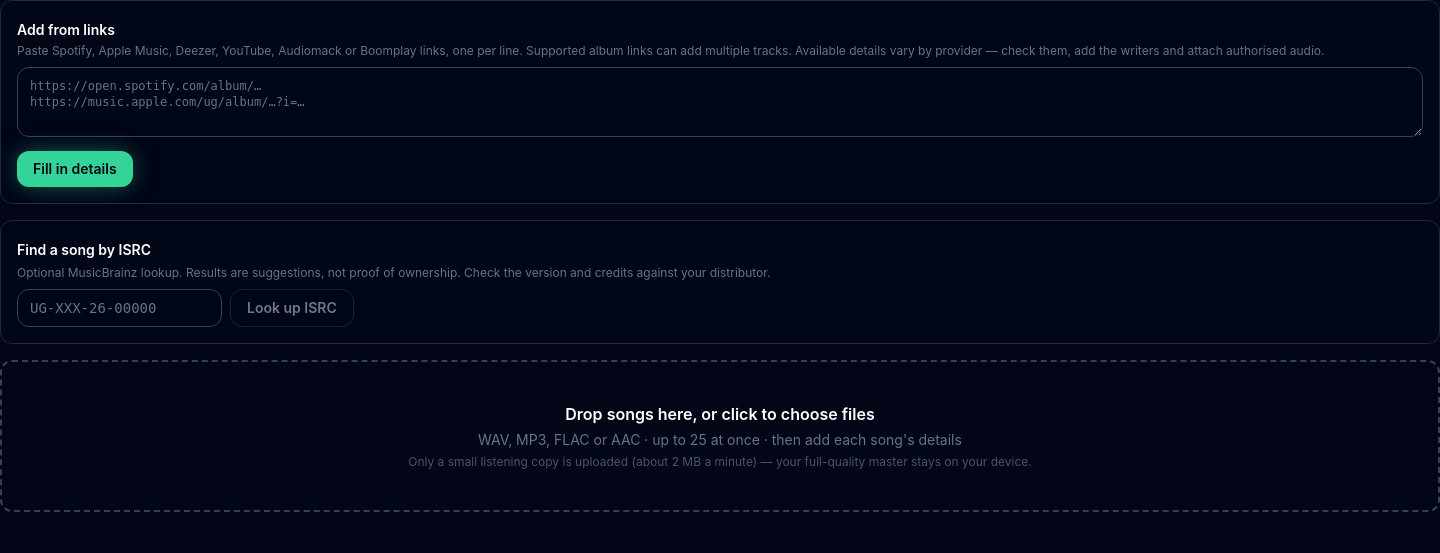
Test: ISRC onboarding › leaves manual entry available when lookup is disabled
Type "UGA2F2100082" into the field labelled "Find a song by ISRC" at {"x": 120, "y": 308}, box [17, 289, 222, 327]
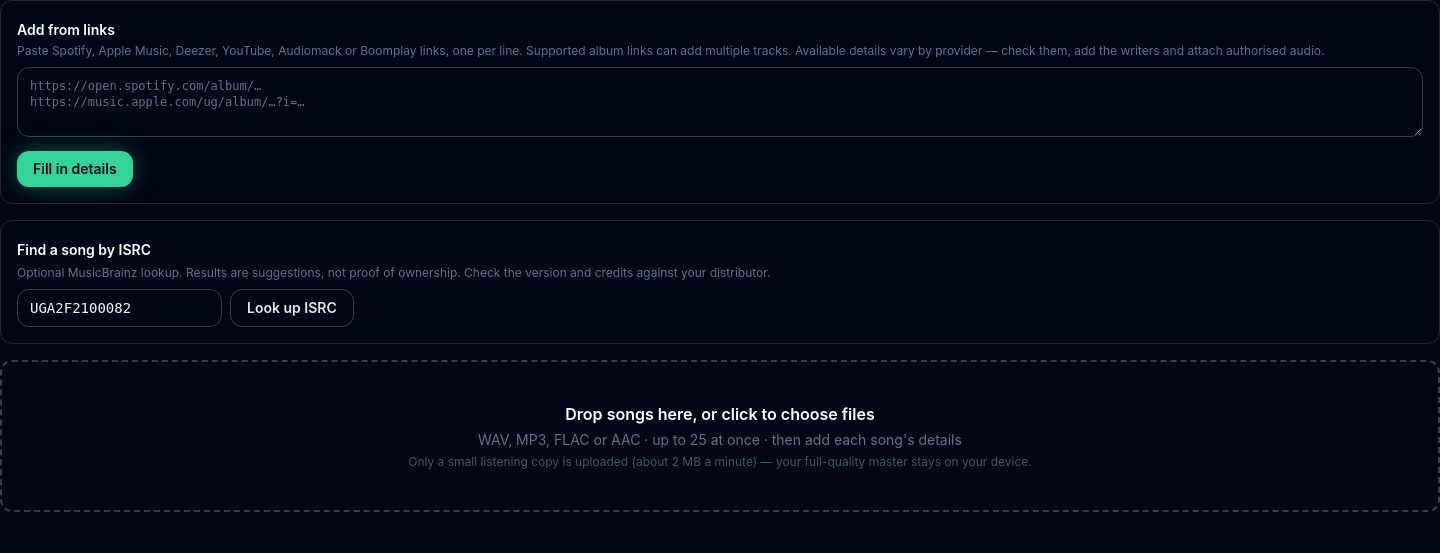
Click the button "Look up ISRC" at {"x": 292, "y": 308}, box [230, 289, 354, 327]
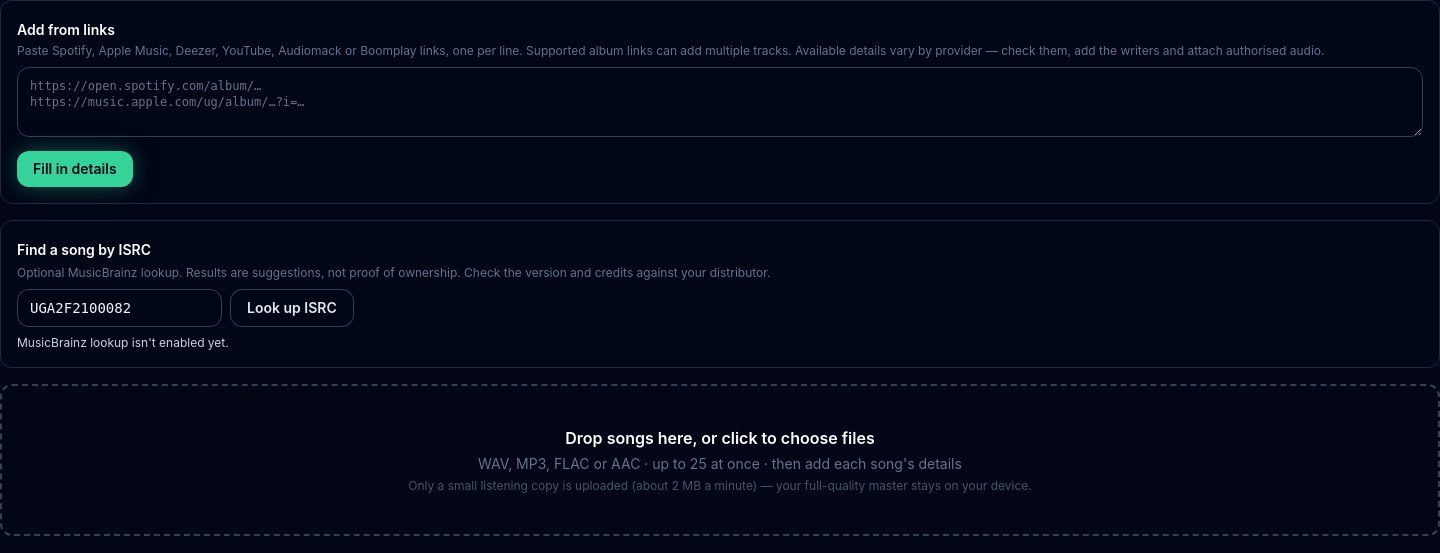
Expected: the text "Drop songs here, or click to choose files" is shown, [565, 426, 875, 450]
Expected: the text "MusicBrainz lookup isn't enabled yet." is shown, [17, 335, 229, 350]
